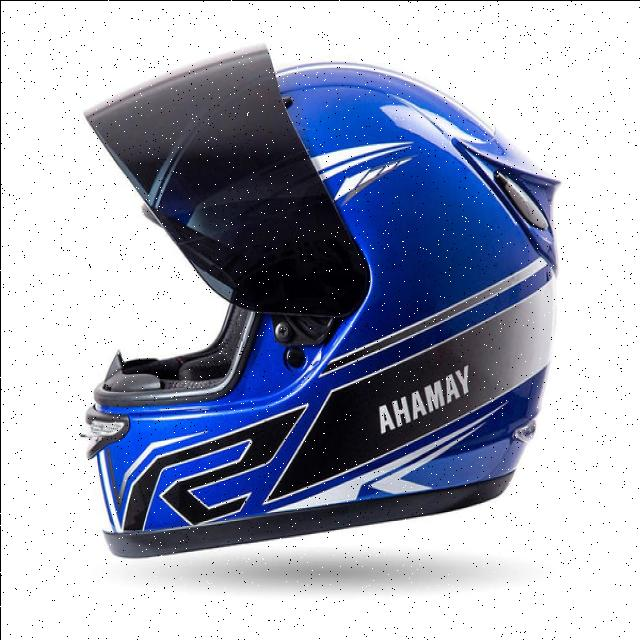Helmet: (86, 47, 556, 556)
